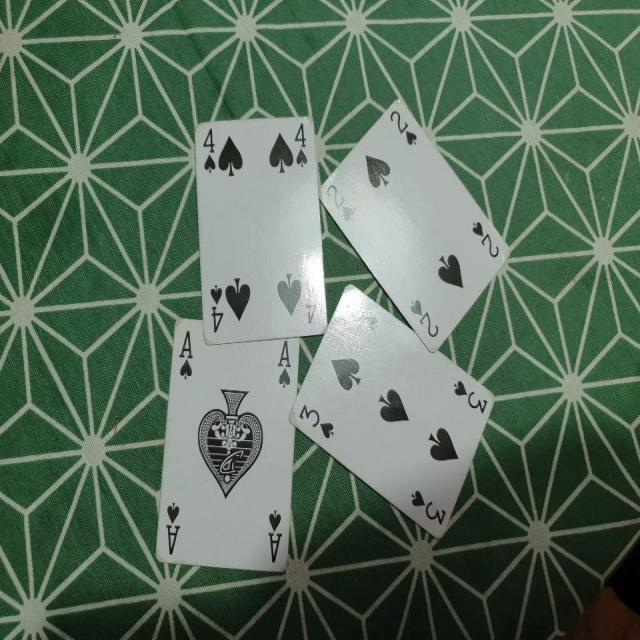2 Spades: (321, 90, 516, 370)
3 Spades: (289, 280, 503, 552)
4 Spades: (190, 112, 338, 350)
A Spades: (152, 304, 303, 582)
